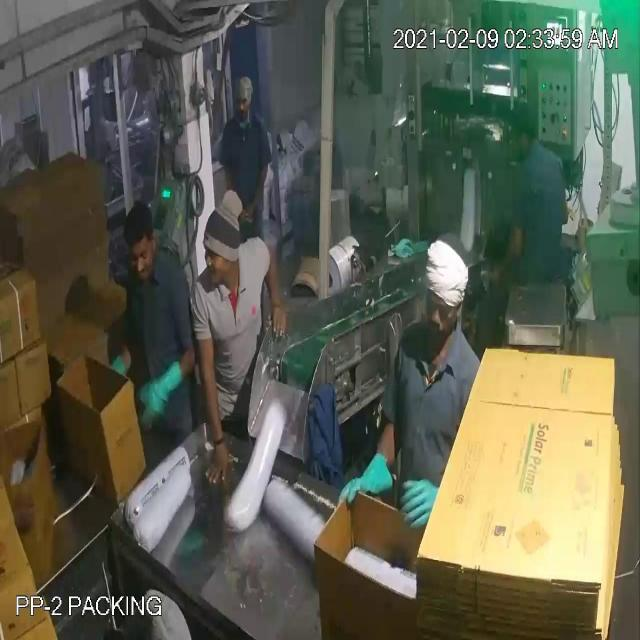No_Gloves: (34, 76, 507, 508)
